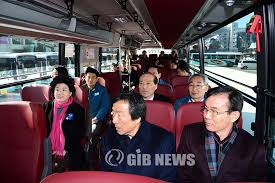seat: (5, 99, 46, 180)
